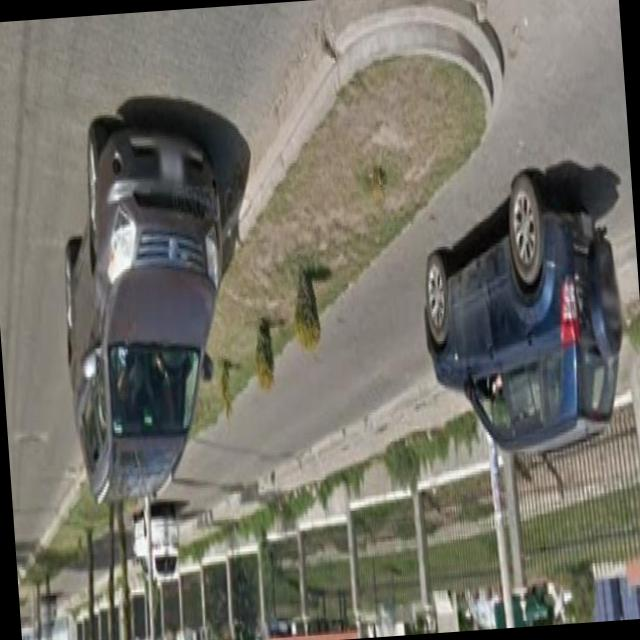car: (48, 98, 240, 524), (422, 172, 632, 462)
